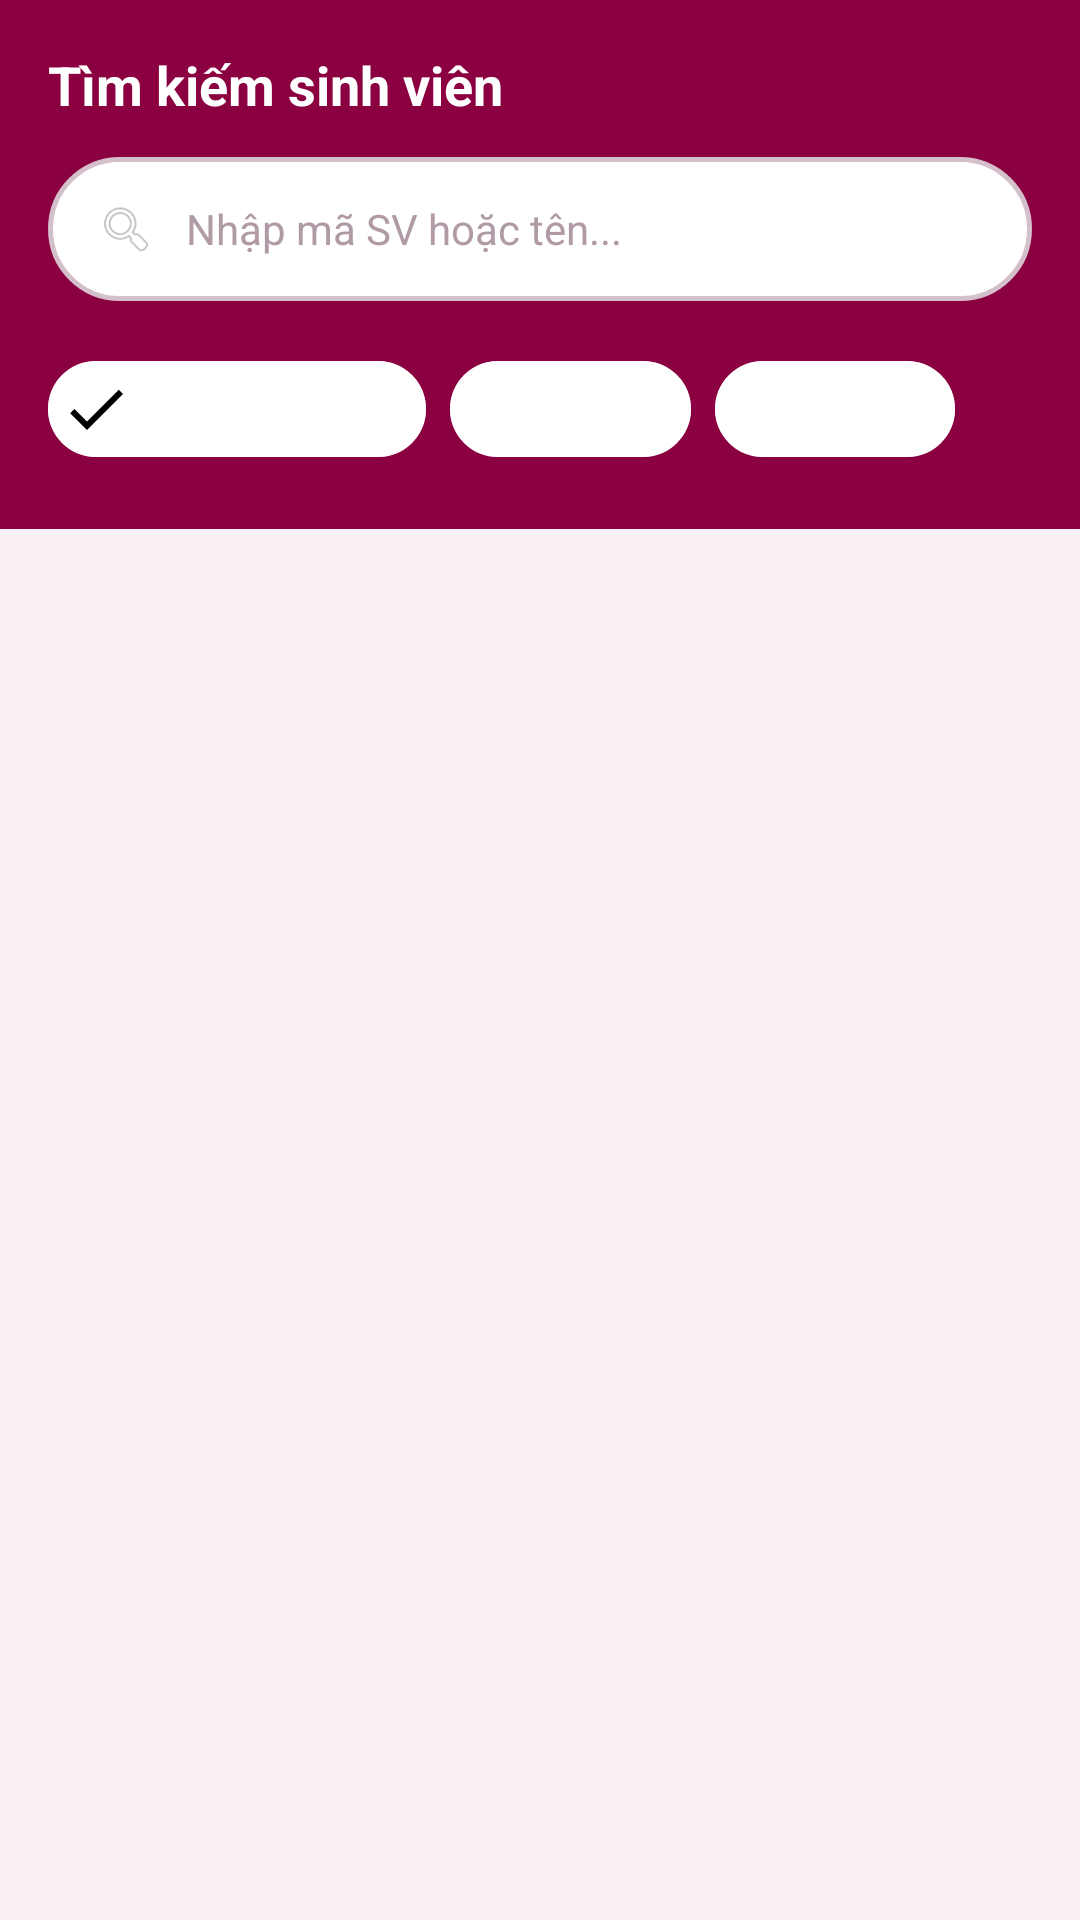

Point at icon controls on the screen. Image size 1080 × 1920, points as (x,y).
search: (126,229)
